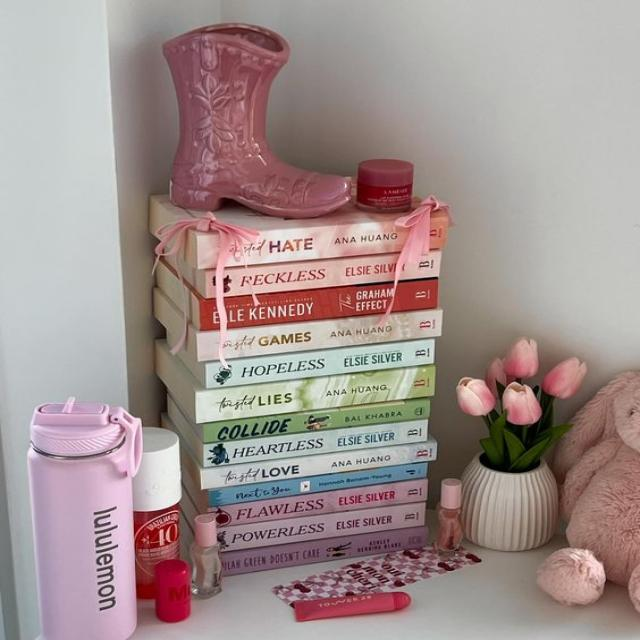book: (196, 366, 437, 422), (199, 217, 447, 268), (196, 310, 442, 361), (192, 440, 436, 490), (201, 279, 438, 330), (208, 252, 441, 299), (202, 420, 427, 468), (206, 340, 435, 387), (195, 399, 429, 444), (222, 527, 427, 576), (222, 503, 423, 551), (222, 479, 427, 525), (209, 463, 428, 506)
flowers: (458, 339, 586, 551)
